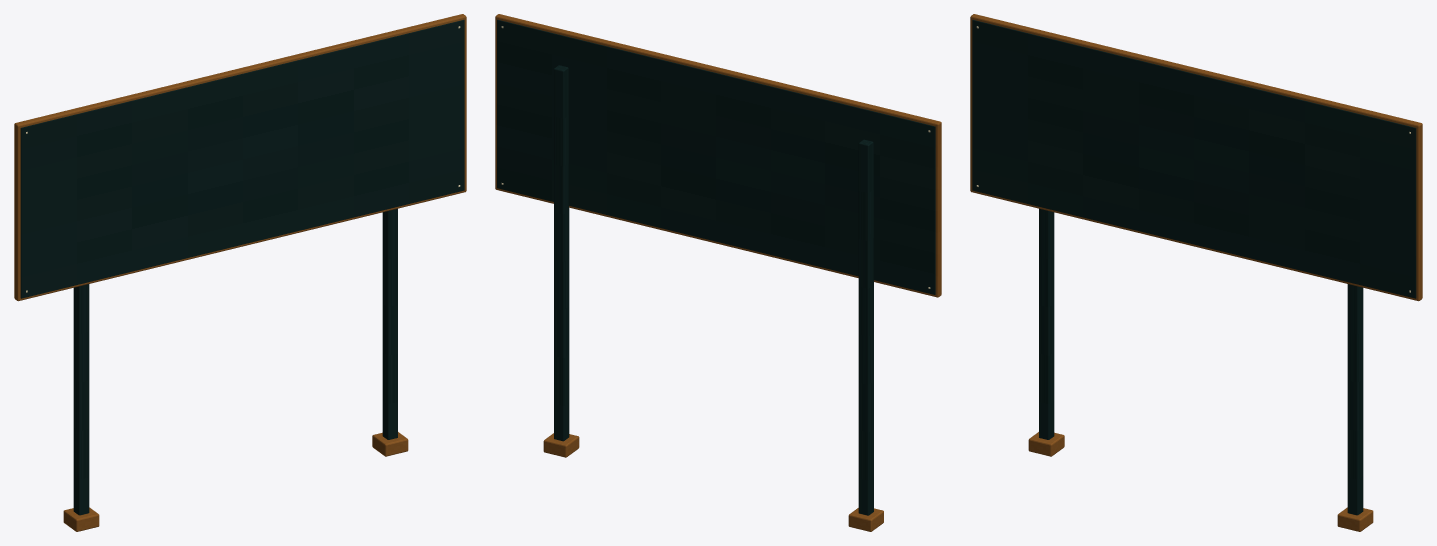
The model's file is highway-exit.glb.
The picture shows the model from 3 angles, left to right: view 1: azimuth 30°, elevation 25°; view 2: azimuth 150°, elevation 25°; view 3: azimuth 330°, elevation 25°; orthographic projection.
Visible parts, largest first — view 1: BlankFaceFront, BrassBody, ShoulderPost-1.65, ShoulderPost1.65, ShoulderShoe1.65, ShoulderShoe-1.65; view 2: BlankFaceBack, ShoulderPost-1.65, ShoulderPost1.65, BrassBody, ShoulderShoe1.65, ShoulderShoe-1.65; view 3: BlankFaceFront, BrassBody, ShoulderPost1.65, ShoulderPost-1.65, ShoulderShoe1.65, ShoulderShoe-1.65.
Part boxes in pixels (x1,y1,x2,y2): BlankFaceFront: (20,20,464,298); BrassBody: (14,14,466,301); ShoulderPost-1.65: (73,284,89,515); ShoulderPost1.65: (382,208,397,439); ShoulderShoe1.65: (372,432,408,456); ShoulderShoe-1.65: (63,507,99,531); BlankFaceBack: (497,19,935,294); ShoulderPost-1.65: (858,139,873,515); ShoulderPost1.65: (554,65,569,441); BrassBody: (495,14,941,297); ShoulderShoe1.65: (543,433,579,457); ShoulderShoe-1.65: (848,508,883,531); BlankFaceFront: (972,20,1416,298); BrassBody: (970,14,1422,301); ShoulderPost1.65: (1347,284,1363,515); ShoulderPost-1.65: (1039,208,1054,439); ShoulderShoe1.65: (1337,507,1373,531); ShoulderShoe-1.65: (1028,432,1064,456).
Size of the model in its own units: 4.8 by 4.3 by 0.2615.
3 materials, 3 textured.
